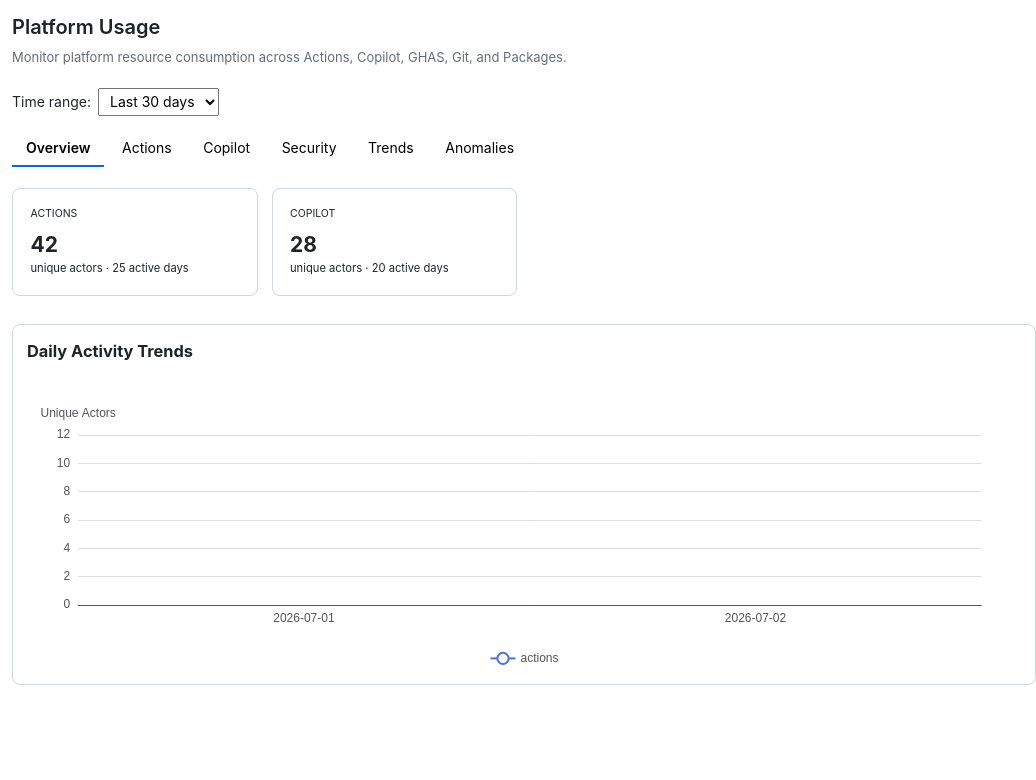
Test: PlatformUsagePage › renders actions tab with top consumers
Step 1. Click the tab "Actions" → click(147, 148), box [108, 130, 186, 166]
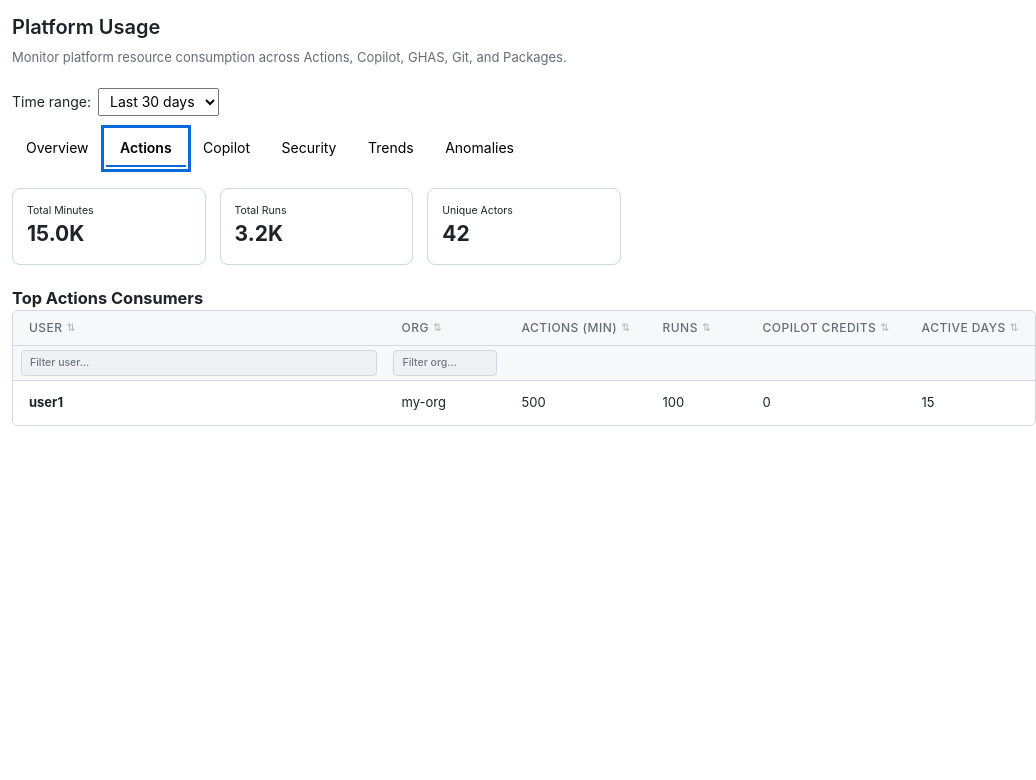
Expected: the text "user1" is shown, [29, 394, 63, 410]
